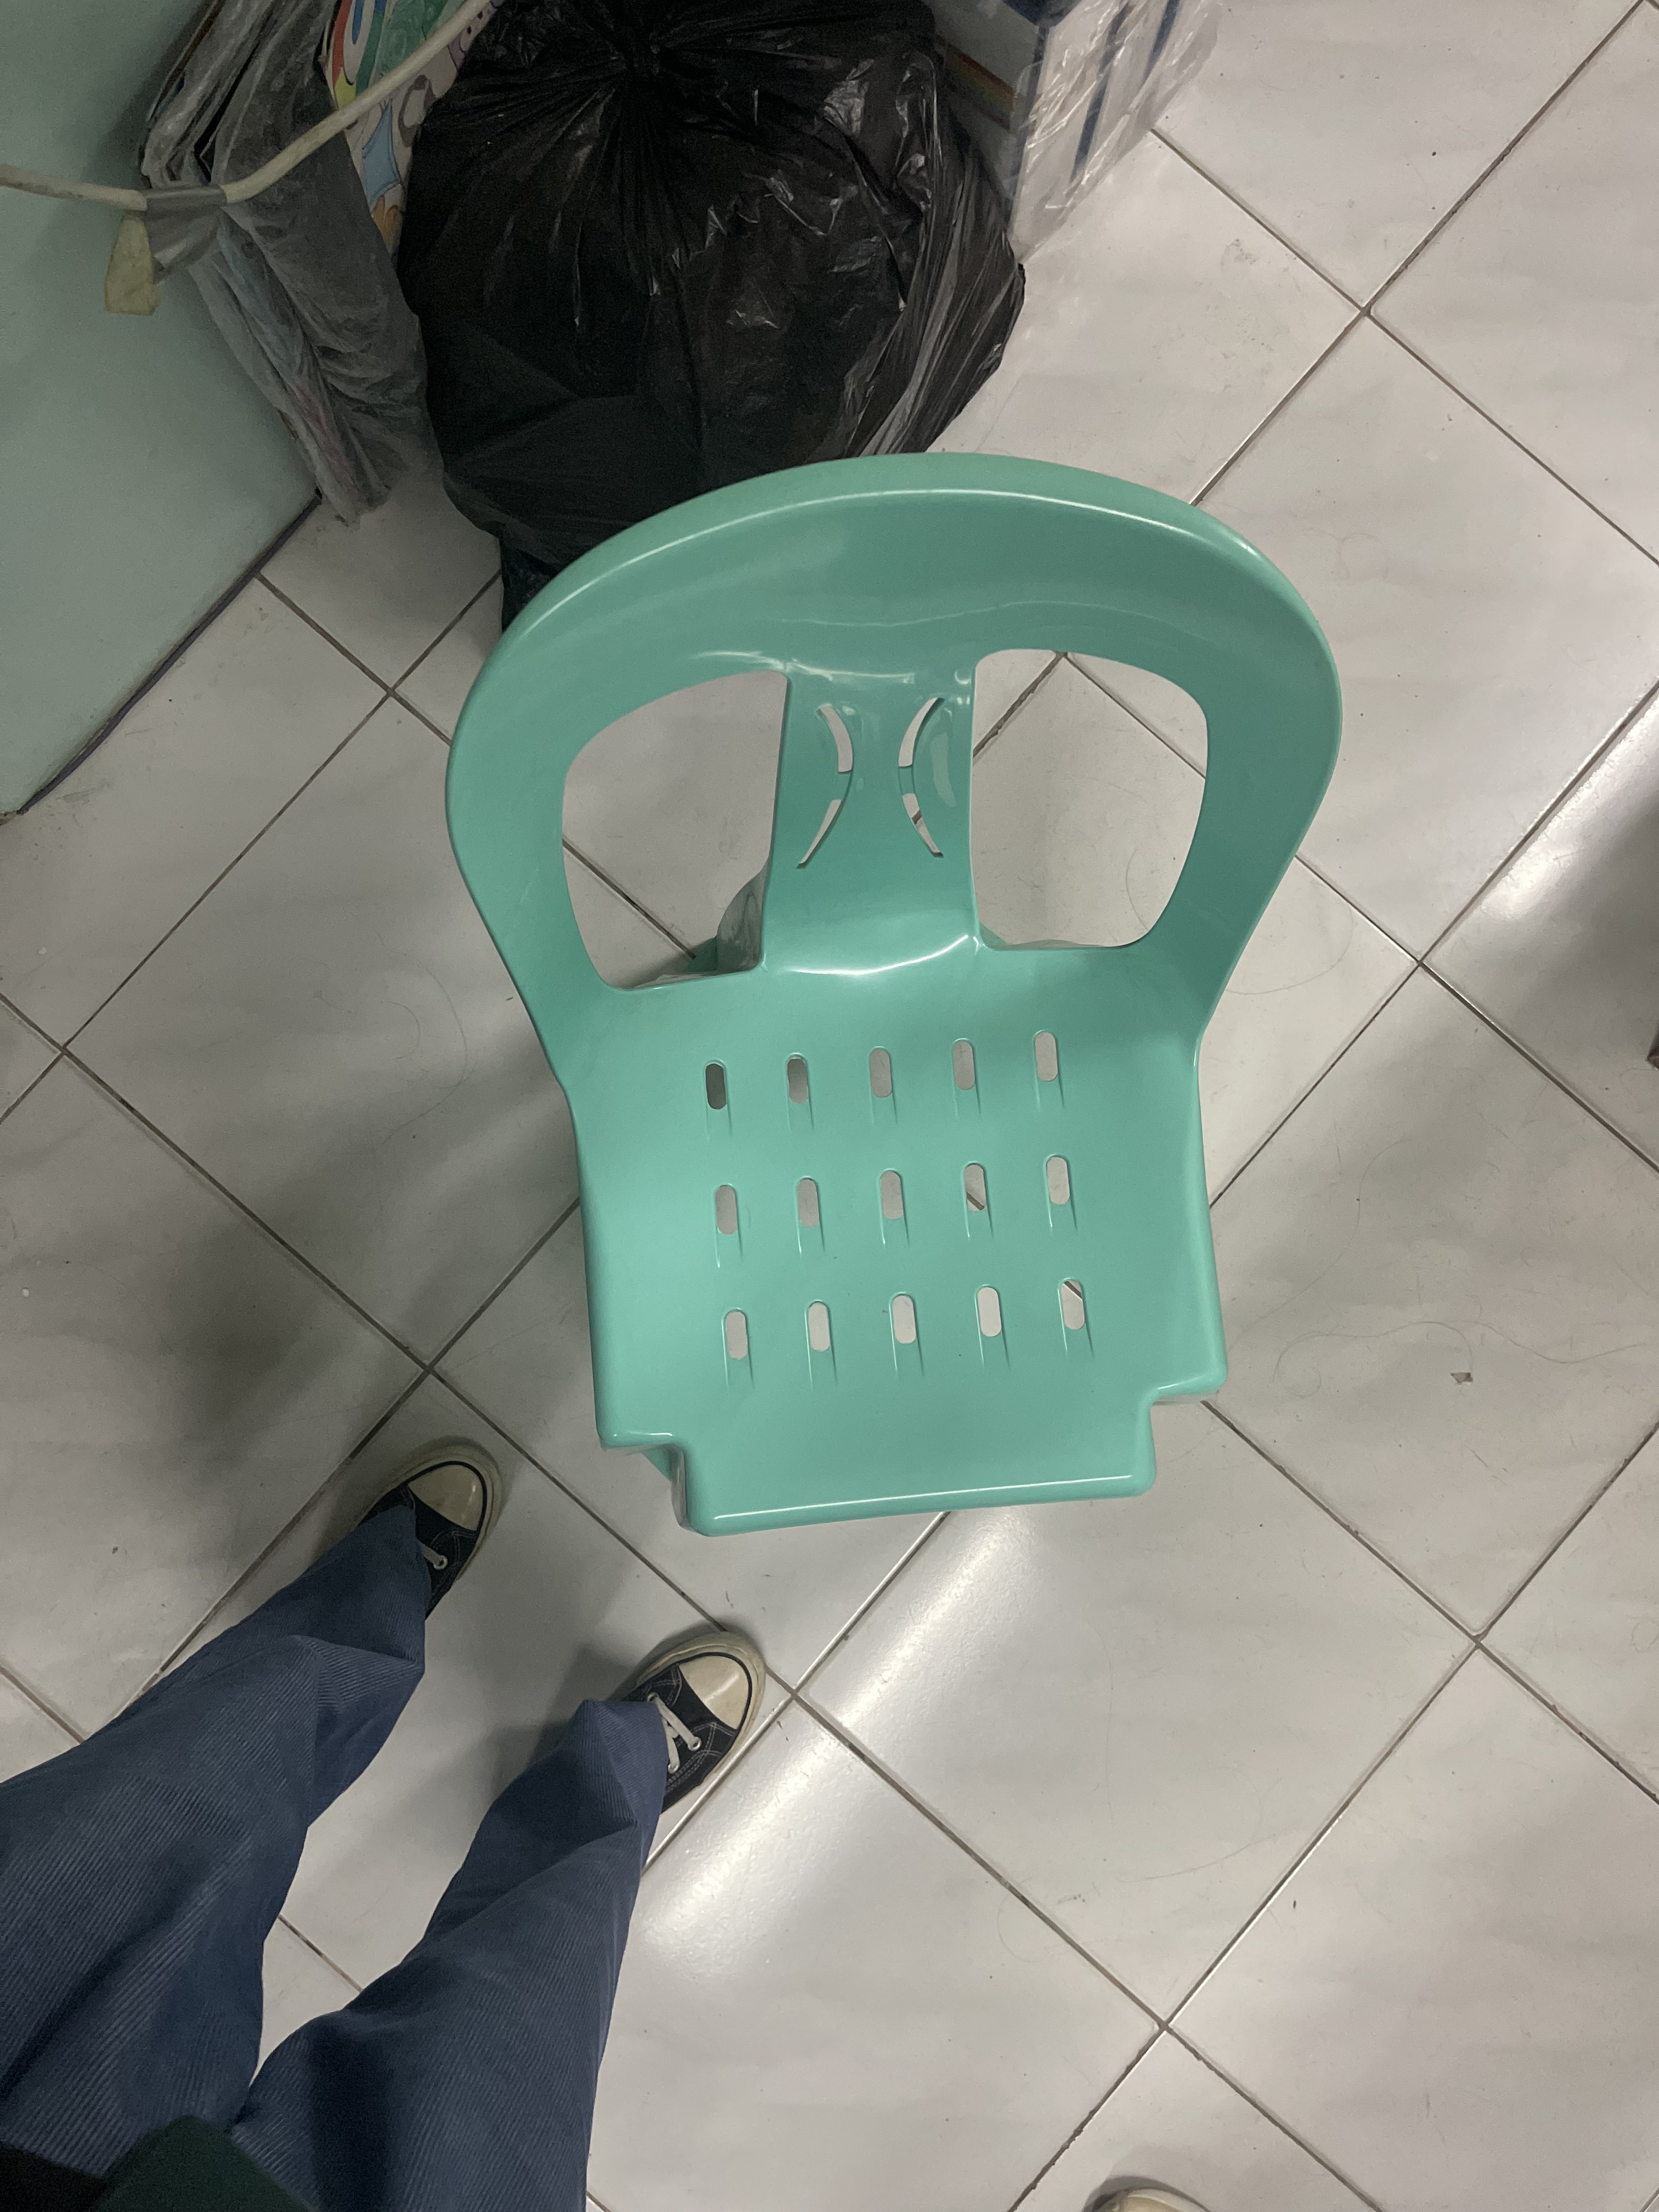chair2: (441, 449, 1342, 1543)
